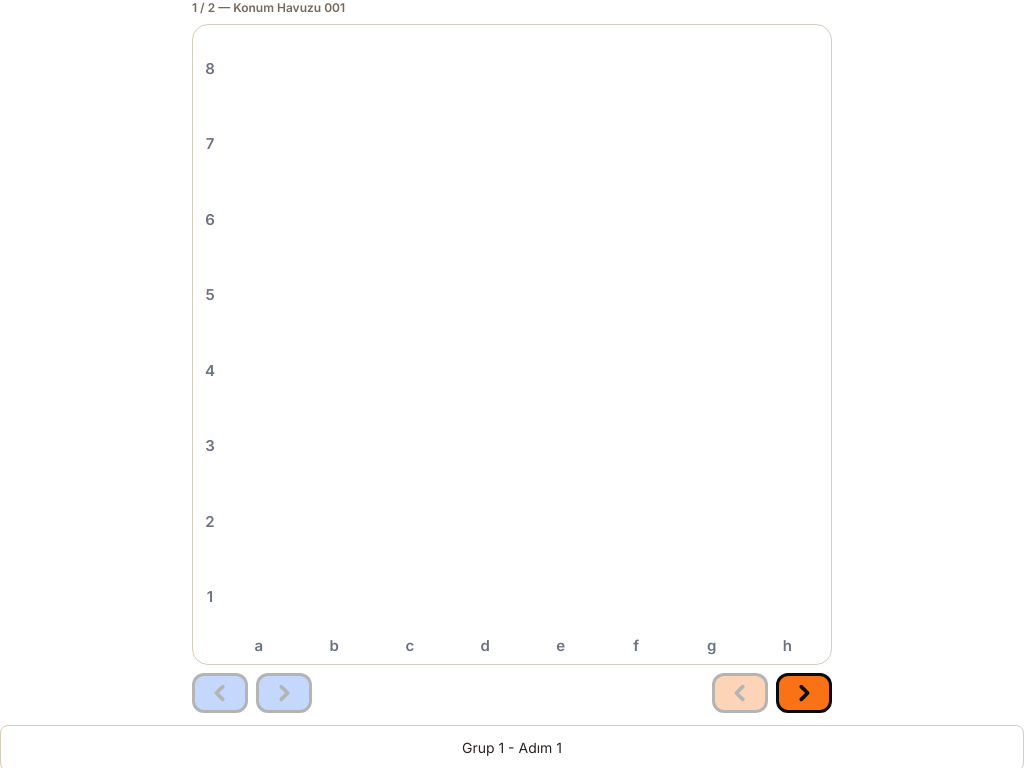
Test: AltKonuWalkthrough — gruplar arası geçiş oku (madde 2026-09-09, devam 3) › birden fazla grup varken gruplar arası ok görünür, tıklanınca gruba geçer ve adım 1'e döner
This screenshot has width=1024, height=768.
Expected: the text "1 / 2 — Konum Havuzu 001" is shown, [192,0,345,15]
Expected: the button named "Önceki grup" is disabled, [712,672,768,712]
Click the button named "Sonraki grup": x=804, y=692 [776,672,832,712]
(page scrolled)
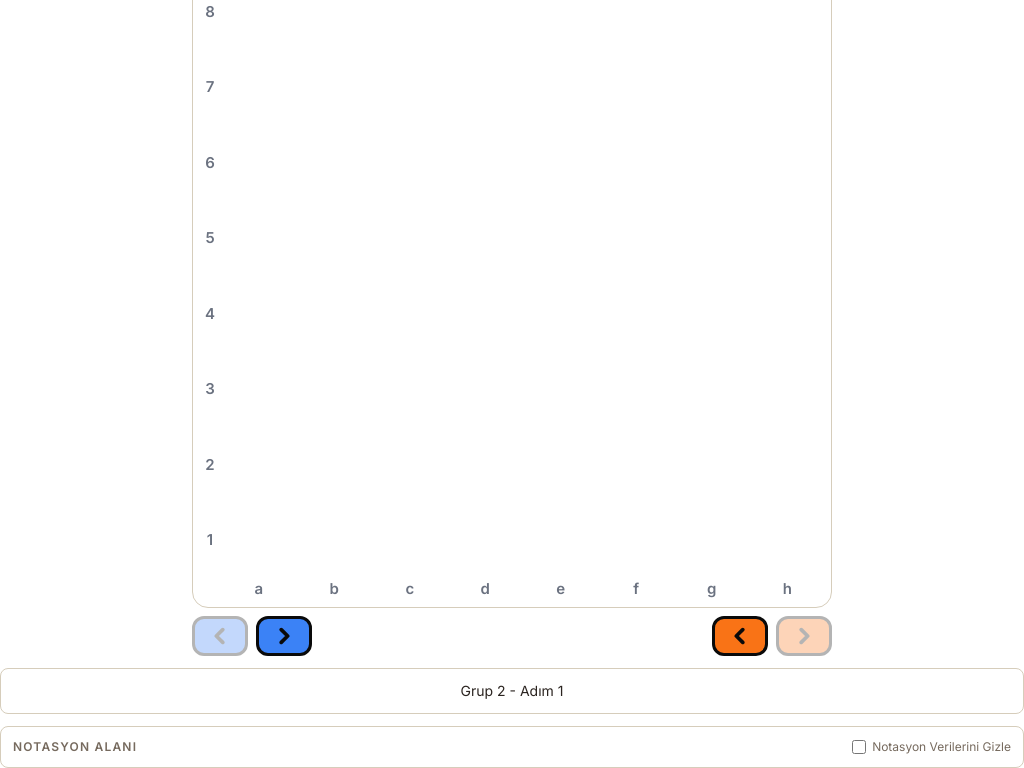
Result: the text "Grup 2 - Adım 1" is shown at [461,682,564,698]
Result: the button named "Sonraki grup" is disabled at [776,616,832,656]
Click the button named "Sonraki adım": x=284, y=636 [256,616,312,656]
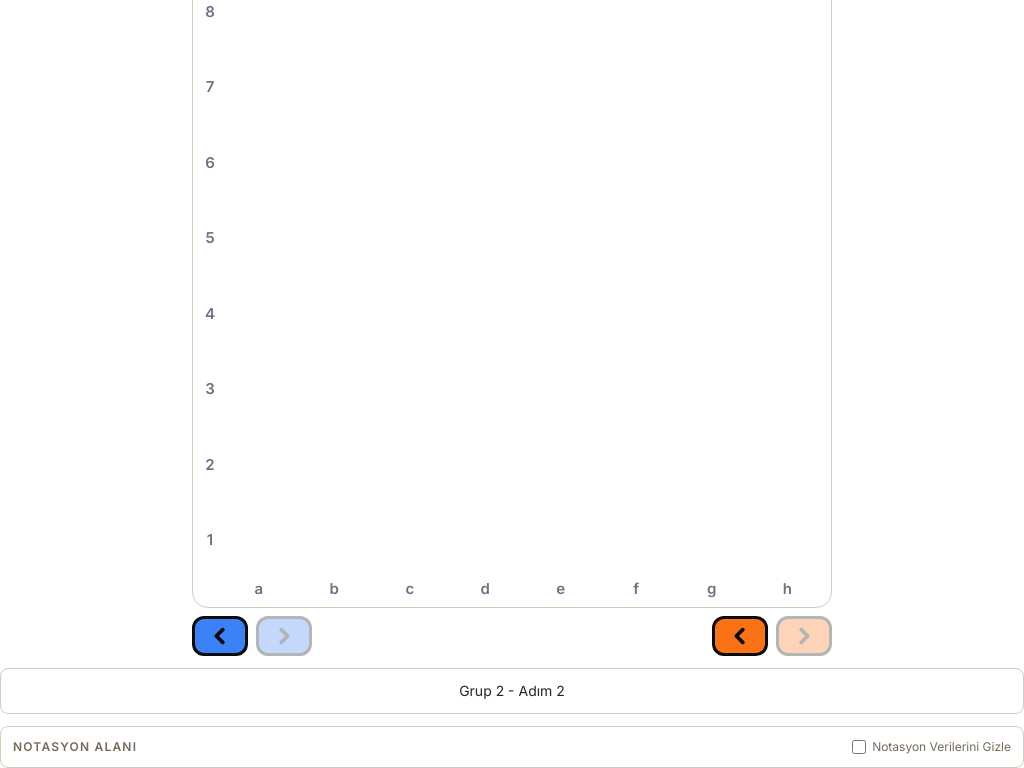
Result: the text "Grup 2 - Adım 2" is shown at [459,682,565,698]
Click the button named "Önceki grup": x=740, y=636 [712,616,768,656]
(page scrolled)
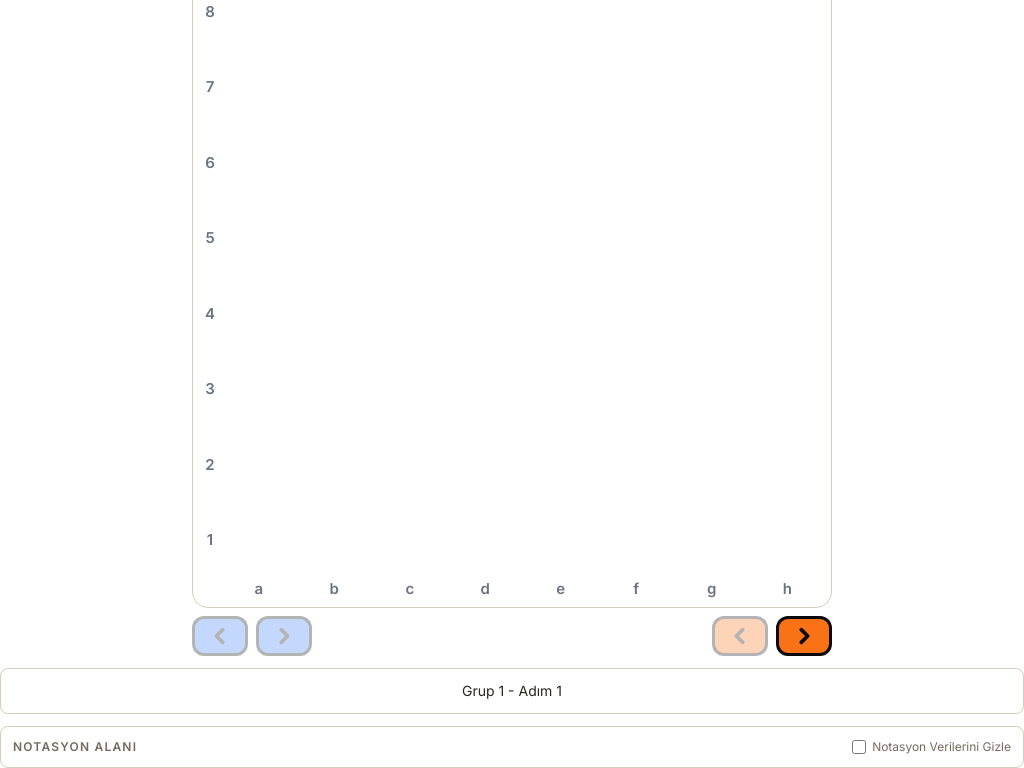
Result: the text "Grup 1 - Adım 1" is shown at [462,682,562,698]
